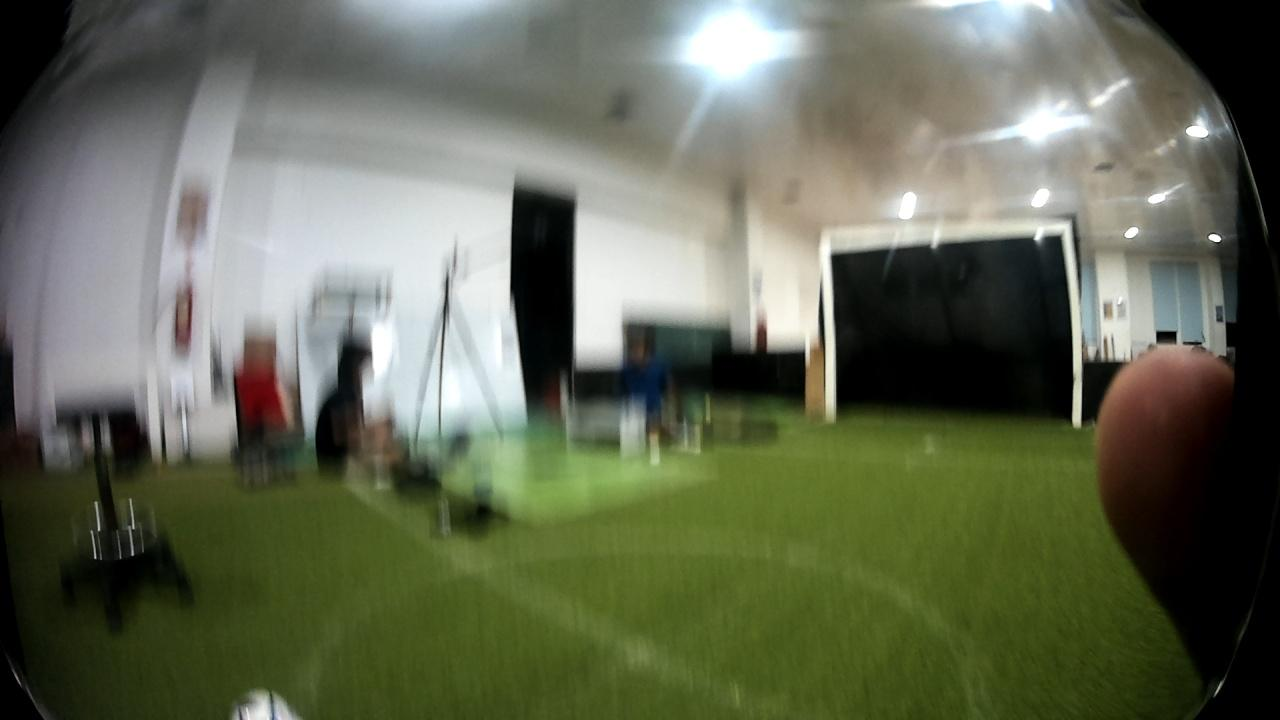ball: (217, 682, 311, 720)
